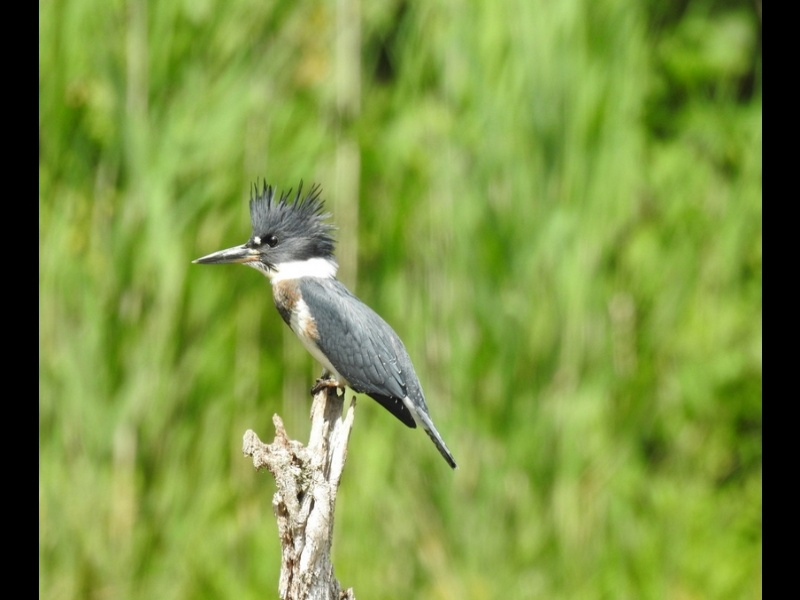kingfisher: (181, 170, 467, 481)
